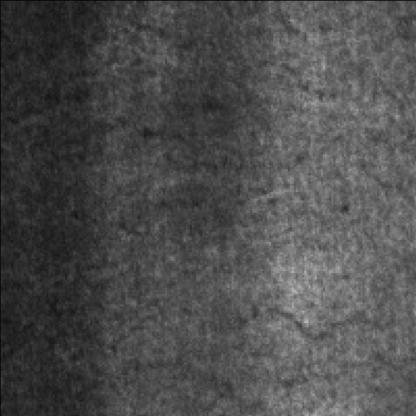crazing: (4, 29, 227, 152), (100, 310, 397, 376)
